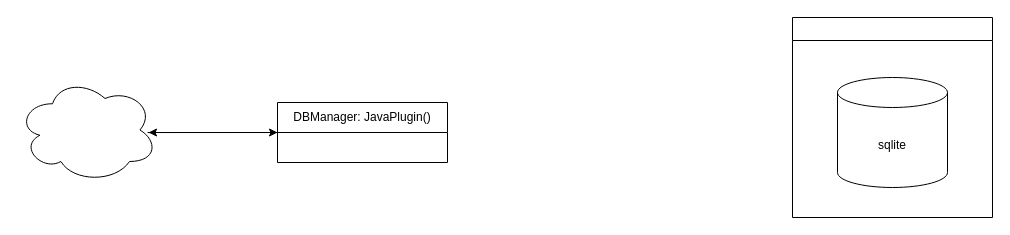
This 1010x235 diagram has some shape labels left out. The centre of each missing label's shape, as x and y in pixels:
"Minecraft" belongs at point (87, 129).
"PluginData" belongs at point (892, 117).
